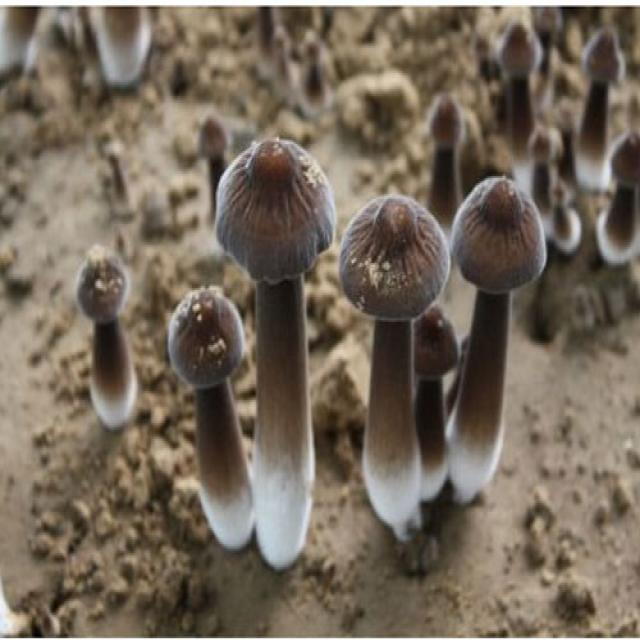Collybia albuminosa: (216, 136, 336, 567), (338, 193, 450, 539), (454, 178, 545, 510), (170, 288, 255, 550), (403, 307, 458, 505), (78, 249, 136, 430), (583, 29, 622, 197), (497, 21, 542, 158), (601, 129, 639, 262), (428, 97, 462, 214), (529, 126, 556, 221)
